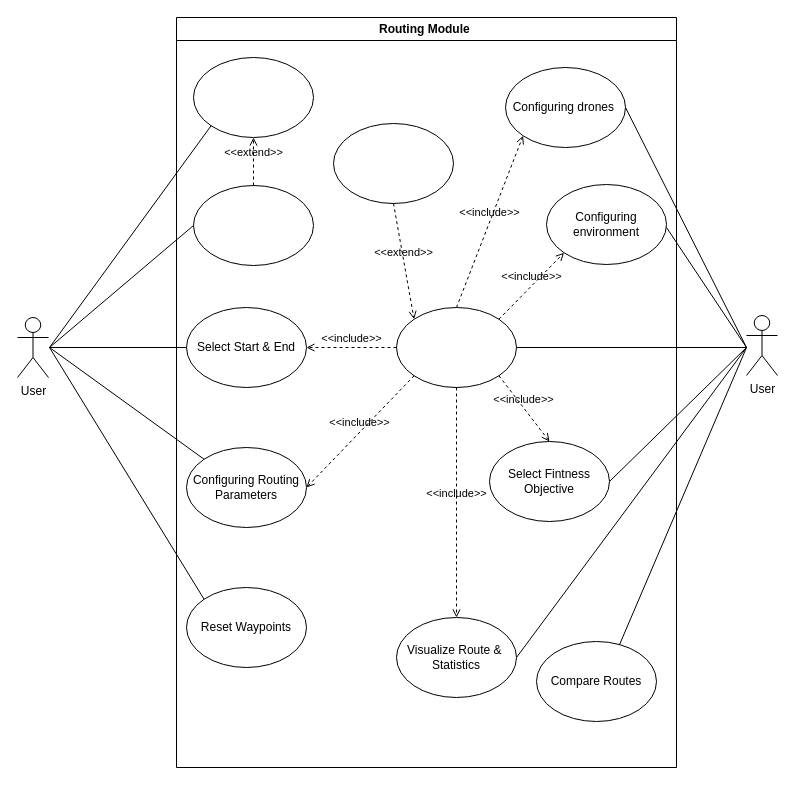
Some shapes in this 795 by 785 pixel diagram are drawn without their labels. Here are the shapes that lost their labels. From the top down, the centre of each, then its label:
the point at 253,97: Add waypoint
the point at 393,163: Inspect Generations
the point at 253,225: Select waypoint type
the point at 456,347: Generate optimal path
